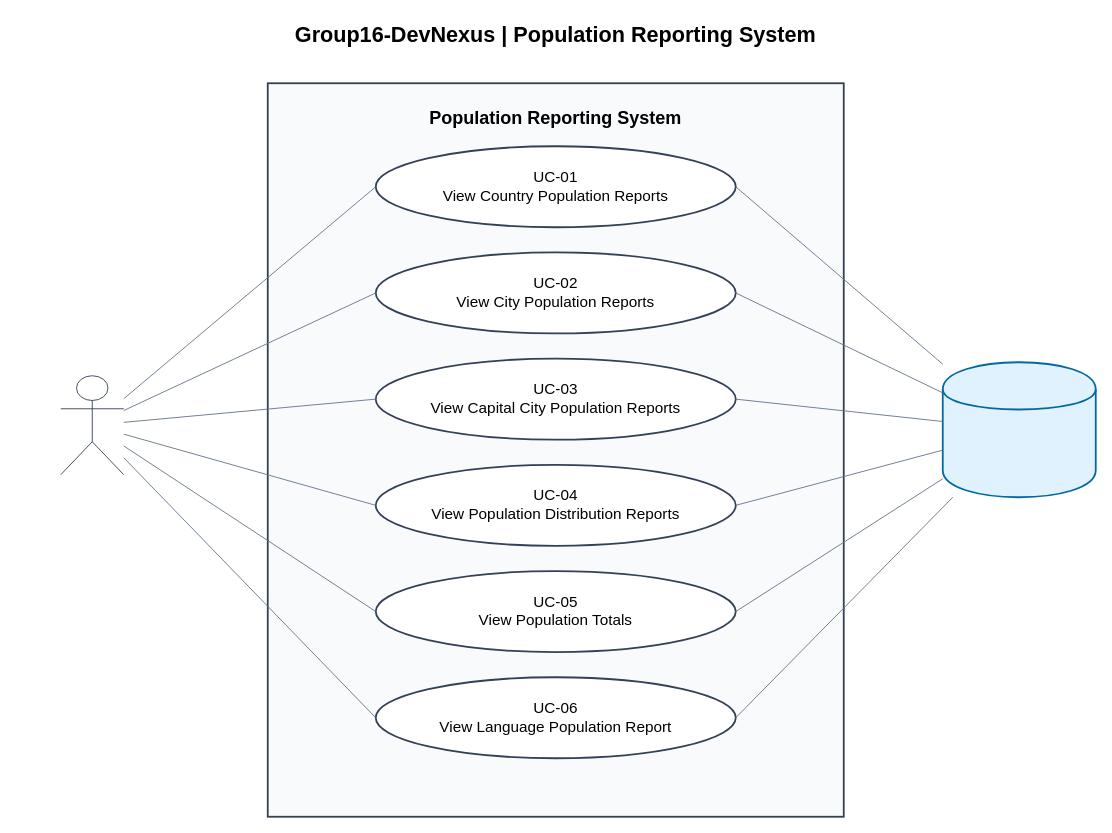
The diagram is 1112 pixels wide and 833 high, and some of its shapes have lost their labels. Here are the shapes that lost their labels. From the top down, the centre of each, then its label:
the point at 92,425: Report User
the point at 1018,429: World Database MySQL Supporting actor
